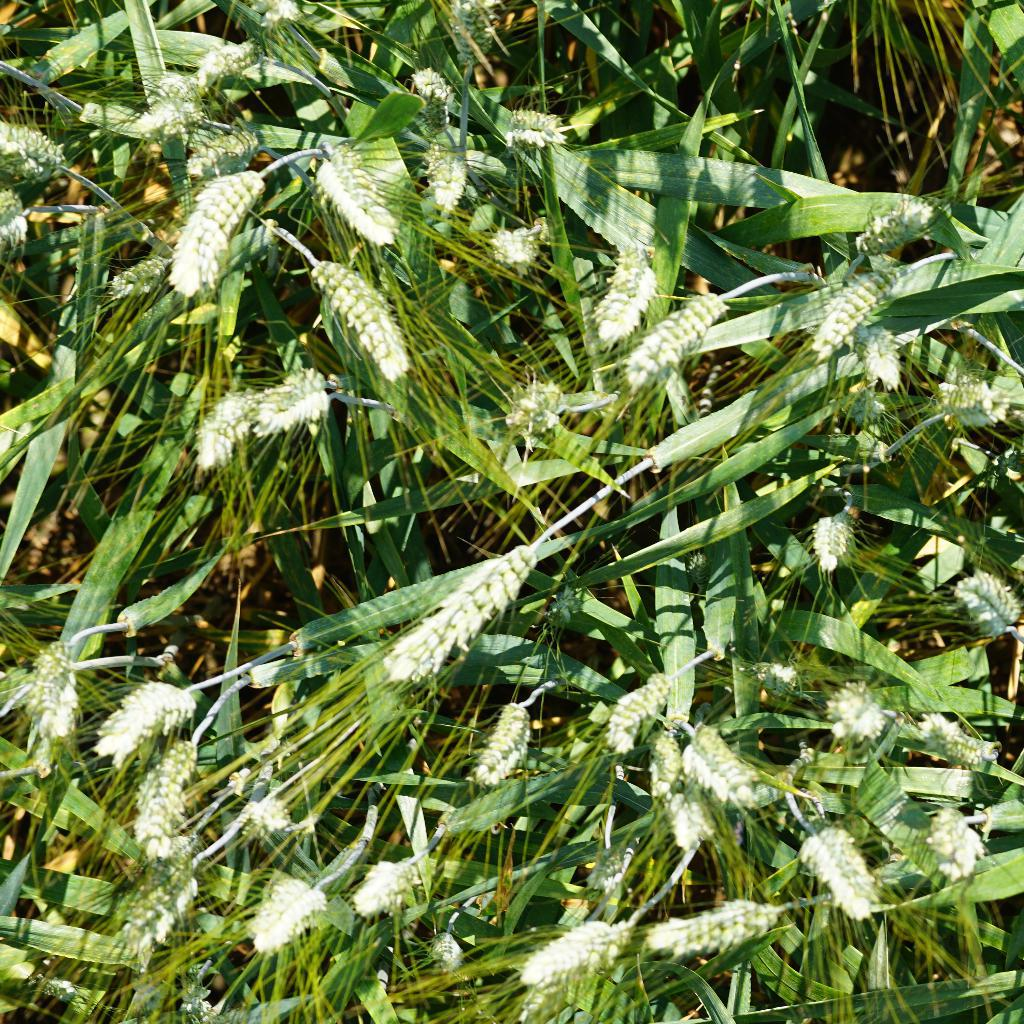0-0: (363, 542, 553, 686), (292, 242, 414, 387), (164, 164, 283, 299), (83, 731, 205, 855), (609, 284, 739, 388), (512, 907, 636, 989), (305, 139, 406, 239), (793, 815, 889, 920), (88, 673, 197, 765), (803, 258, 908, 350), (100, 860, 200, 955), (645, 889, 784, 956), (240, 860, 331, 956), (840, 187, 948, 262), (675, 718, 763, 810), (941, 559, 1024, 650), (463, 695, 544, 788), (253, 362, 357, 434), (912, 796, 994, 881), (918, 710, 1020, 777), (608, 660, 679, 754), (183, 374, 257, 463), (593, 235, 656, 339), (493, 373, 580, 445), (344, 844, 426, 916), (15, 634, 75, 731), (832, 672, 908, 747), (930, 372, 1008, 444), (135, 62, 217, 129), (843, 318, 912, 396), (578, 829, 653, 896), (175, 36, 268, 90), (174, 120, 265, 175), (735, 649, 814, 712), (107, 239, 175, 310), (661, 783, 722, 856), (0, 120, 79, 176), (414, 139, 471, 215), (433, 0, 494, 71), (404, 53, 470, 118), (493, 98, 575, 150), (803, 509, 862, 572), (243, 787, 313, 838), (641, 725, 687, 800), (171, 974, 234, 1024), (485, 219, 544, 272), (421, 926, 481, 978), (0, 189, 38, 269), (232, 0, 305, 33), (22, 965, 82, 1005)
